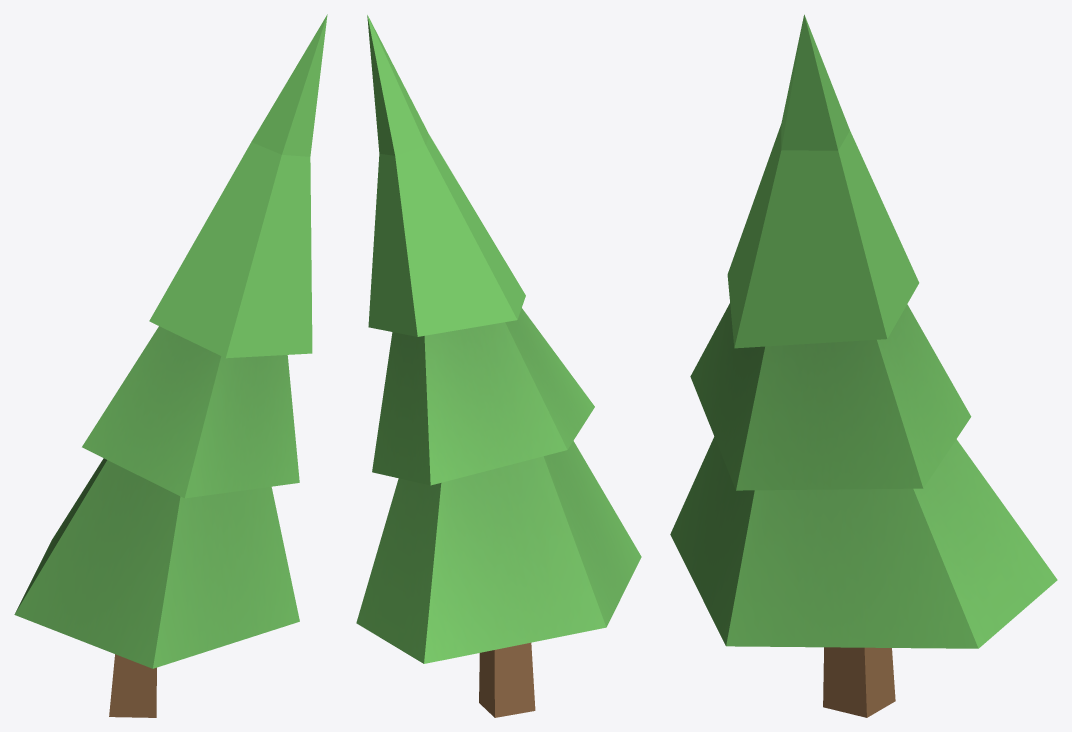
Rendered from Fir_Tree_OneSided_s_04_LOD.fbx.
3 renders of one model, left to right at view 1: azimuth 30°, elevation 25°; view 2: azimuth 150°, elevation 25°; view 3: azimuth 270°, elevation 25°, orthographic. The views are drawn at different scales.
Visible parts, largest first — view 1: Fir_Tree_OneSided_s_04_LOD0; view 2: Fir_Tree_OneSided_s_04_LOD0; view 3: Fir_Tree_OneSided_s_04_LOD0.
Part boxes in pixels (bbox=[...]): Fir_Tree_OneSided_s_04_LOD0: bbox=[14, 14, 327, 717]; Fir_Tree_OneSided_s_04_LOD0: bbox=[356, 15, 641, 717]; Fir_Tree_OneSided_s_04_LOD0: bbox=[670, 14, 1057, 717].
Size of what is drawn, in the model's own units: 114 by 258 by 115.
